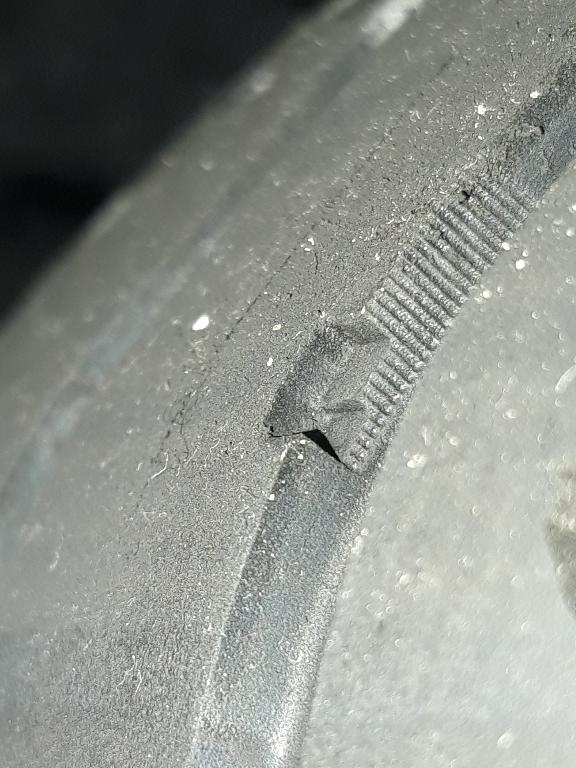temoin:50: (242, 255, 466, 498)
